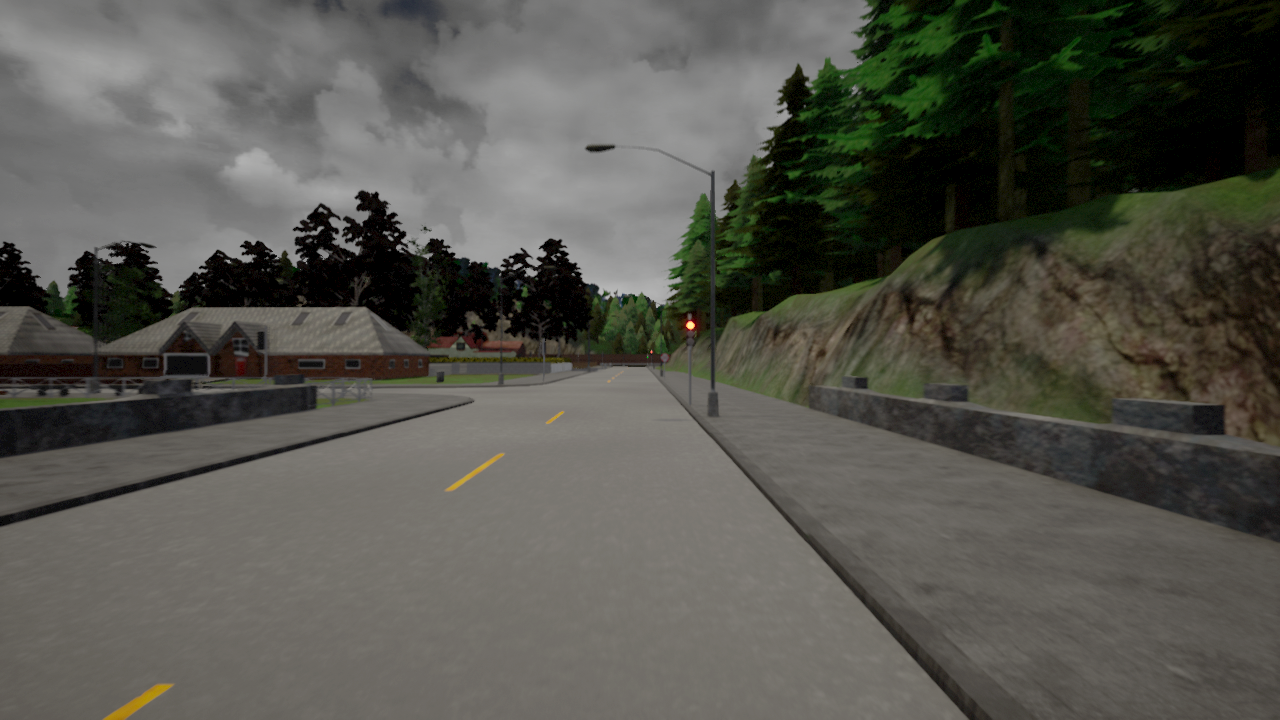red: (685, 319, 696, 347)
